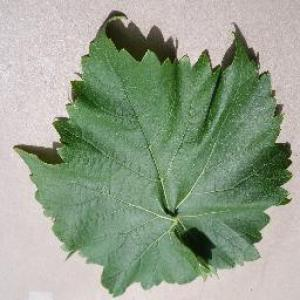Folha: (12, 9, 293, 298)
